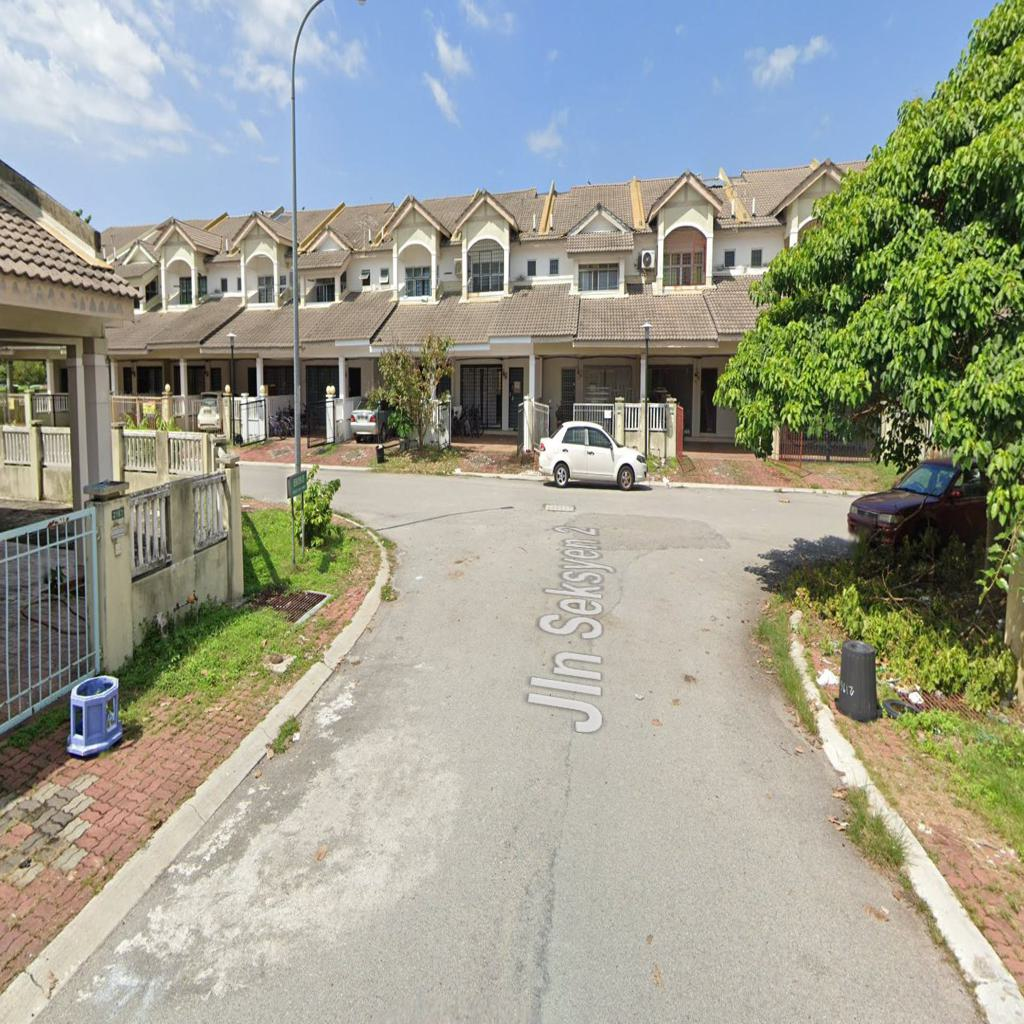Junction: (239, 430, 428, 610), (734, 461, 915, 622)
